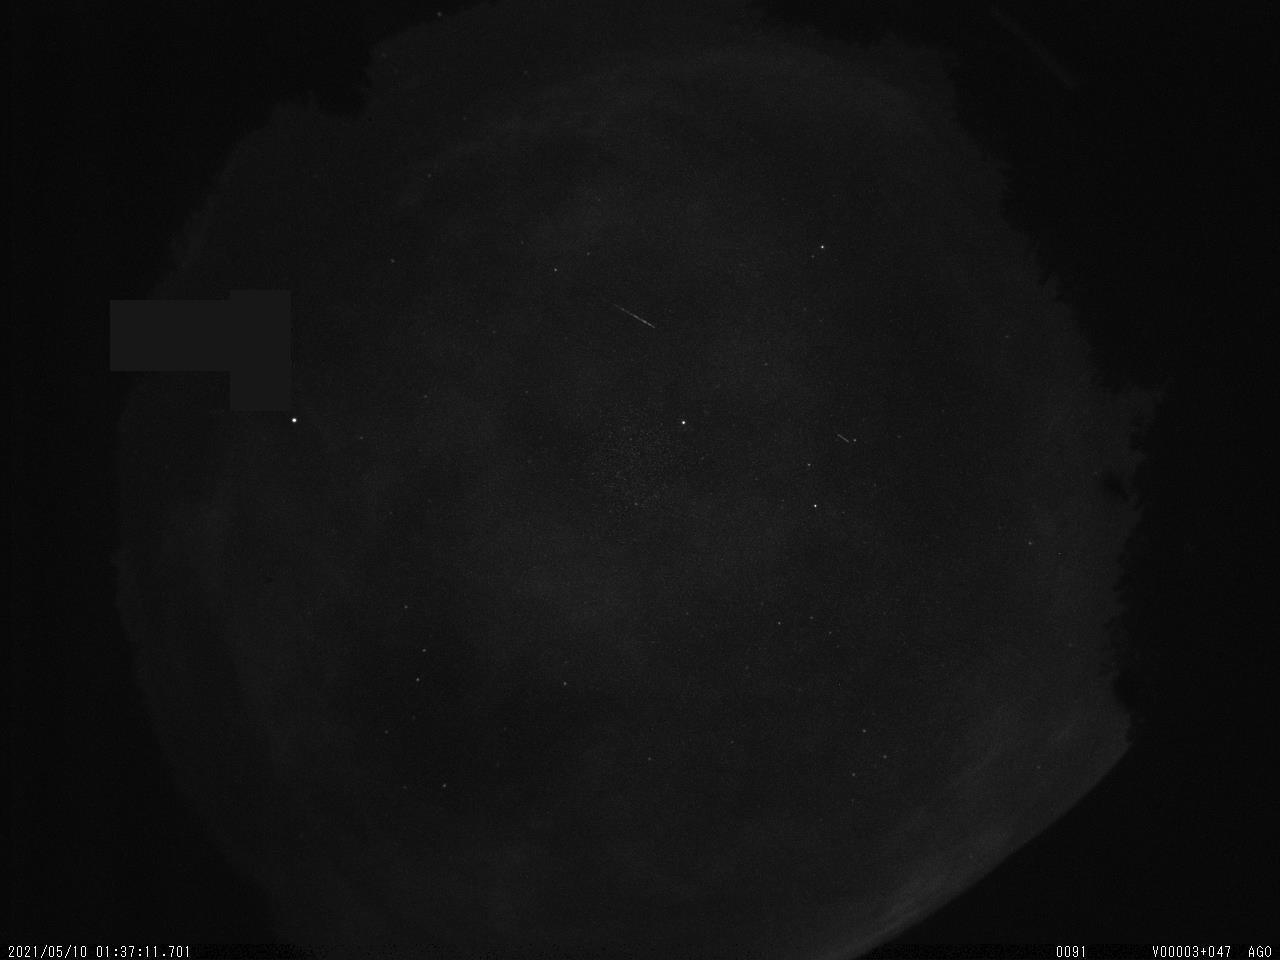meteor: (541, 260, 672, 340)
